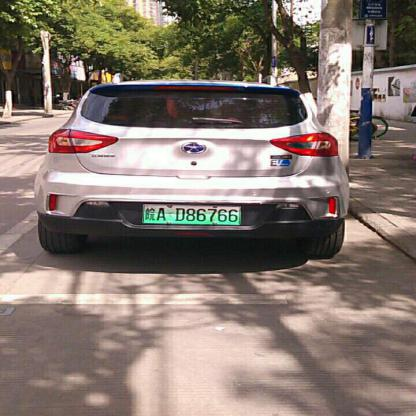lp: (143, 204, 239, 224)
